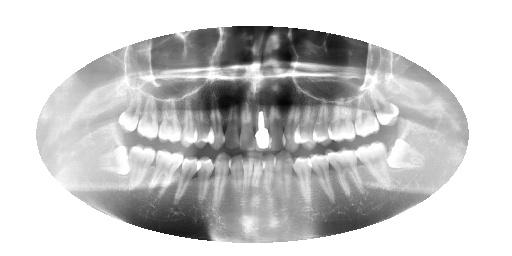i10decay: (227, 155, 247, 218)
i11healthy: (211, 154, 230, 216)
i12healthy: (195, 156, 212, 207)
i13decay: (172, 156, 200, 206)
i14healthy: (149, 149, 183, 202)
i15healthy: (125, 144, 154, 189)
i16healthy: (93, 143, 131, 179)
i1healthy: (386, 137, 426, 170)
i2healthy: (355, 145, 394, 187)
i3healthy: (326, 150, 365, 197)
i4healthy: (308, 154, 338, 201)
i5healthy: (291, 155, 316, 206)
i6healthy: (273, 156, 293, 215)
i7healthy: (260, 155, 278, 221)
i8healthy: (250, 156, 265, 230)
i9healthy: (240, 155, 256, 234)
u10decay: (221, 101, 241, 153)
u11healthy: (206, 97, 226, 155)
u12healthy: (190, 100, 207, 151)
u13healthy: (179, 100, 199, 150)
u14healthy: (158, 96, 183, 149)
u15healthy: (136, 94, 160, 141)
u16healthy: (116, 89, 140, 133)
u1healthy: (367, 85, 405, 131)
u2healthy: (352, 93, 381, 139)
u3healthy: (326, 99, 357, 142)
u4healthy: (312, 103, 331, 148)
u5healthy: (292, 101, 315, 150)
u6healthy: (278, 102, 298, 151)
u7healthy: (264, 101, 284, 155)
u8healthy: (253, 104, 275, 157)
u9healthy: (236, 101, 257, 153)
